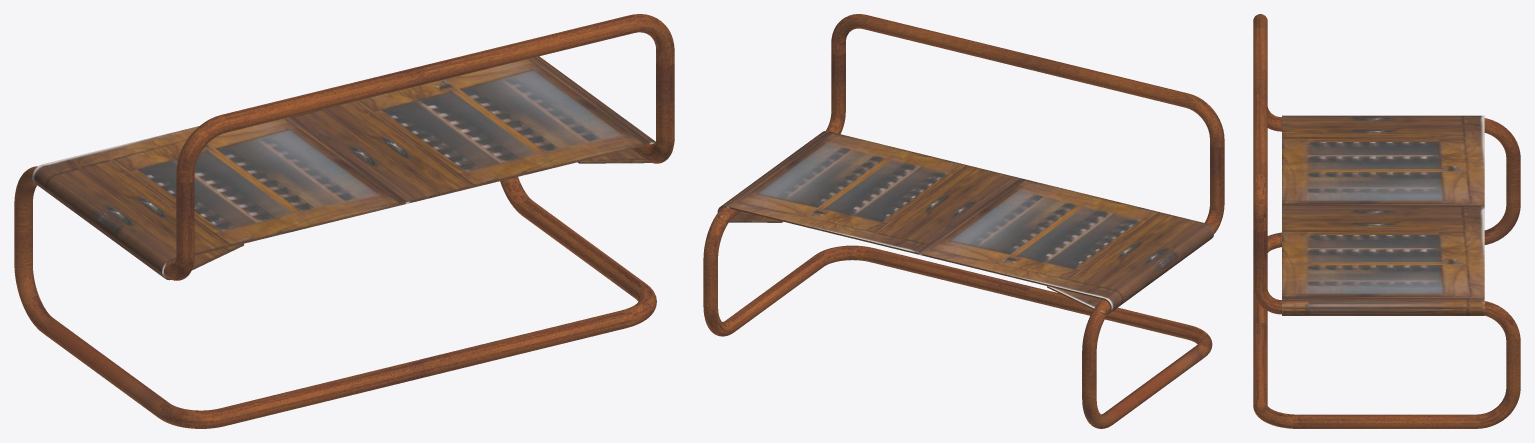
3 views of the same model, side by side, from view 1: azimuth 30°, elevation 25°; view 2: azimuth 150°, elevation 25°; view 3: azimuth 270°, elevation 25° (orthographic). The views are drawn at different scales.
Visible parts, largest first — view 1: mesh2_mesh2-geometry, mesh1_mesh1-geometry; view 2: mesh2_mesh2-geometry, mesh1_mesh1-geometry; view 3: mesh2_mesh2-geometry, mesh1_mesh1-geometry.
Part boxes in pixels (x1,y1,x2,y2): mesh2_mesh2-geometry: (32,56,659,280); mesh1_mesh1-geometry: (14,14,674,428); mesh2_mesh2-geometry: (717,131,1213,314); mesh1_mesh1-geometry: (703,14,1224,428); mesh2_mesh2-geometry: (1282,115,1484,315); mesh1_mesh1-geometry: (1253,14,1520,428).
Bounding box in the file's own units: 0.7661 × 0.4542 × 0.4548.
